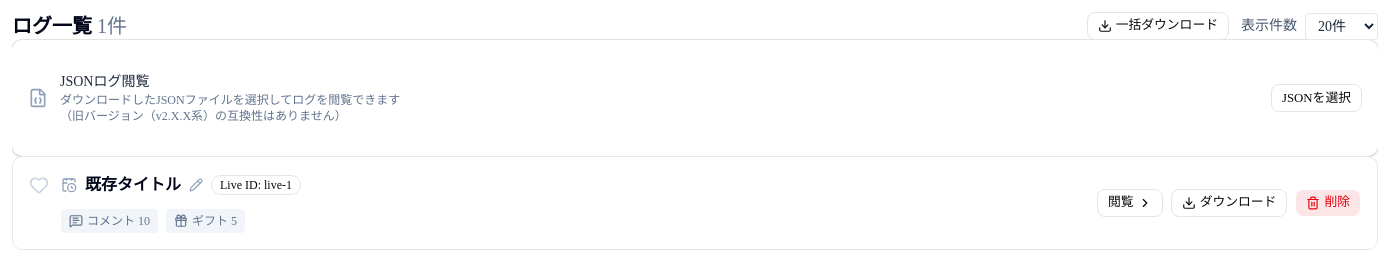
Scenario: LogListPage › タイトル編集（canEdit=true） › タイトルがある場合、入力フィールドの初期値はそのタイトル
The width and height of the screenshot is (1390, 268).
Click the button named "タイトルを編集".
click(196, 185)  # box left=189, top=178, right=203, bottom=192
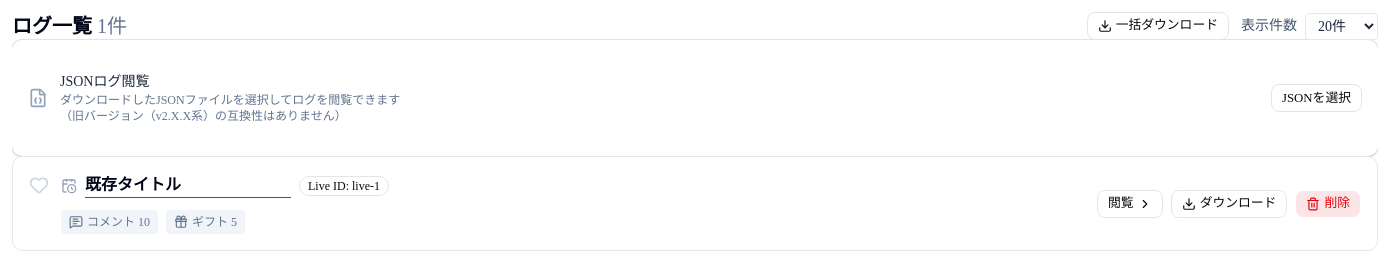
Expected: the field holds "既存タイトル", left=85, top=173, right=291, bottom=198
